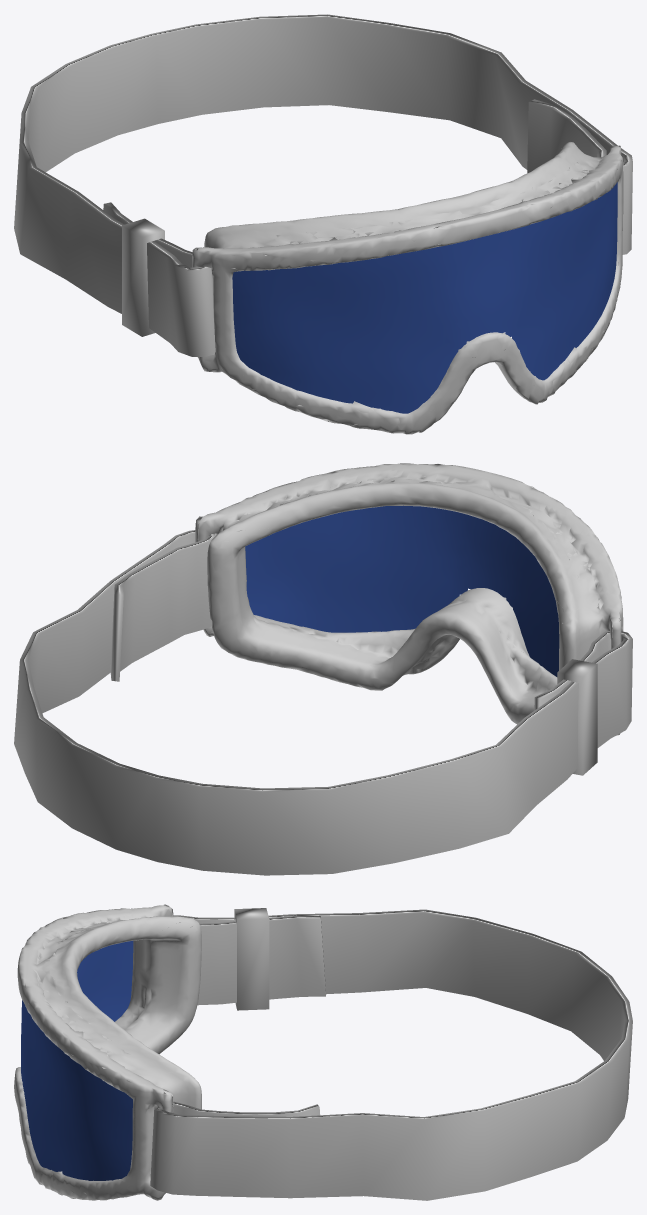
File: ski-goggles.glb
3 renders of one model, top to bottom at view 1: azimuth 30°, elevation 25°; view 2: azimuth 150°, elevation 25°; view 3: azimuth 270°, elevation 25°, orthographic. The views are drawn at different scales.
Parts seen in each view (by area): view 1: strap, lens, frame; view 2: strap, frame, lens; view 3: strap, frame, lens.
Boxes of the visible parts, x1,y1,x2,y2 form: strap: (14,14,632,356); lens: (232,182,617,413); frame: (192,142,623,434); strap: (14,530,632,875); frame: (195,463,623,735); lens: (245,505,559,676); strap: (150,908,632,1200); frame: (14,904,201,1200); lens: (21,941,133,1180).
Size of the model in its own units: 0.1941 by 0.08 by 0.2341.
